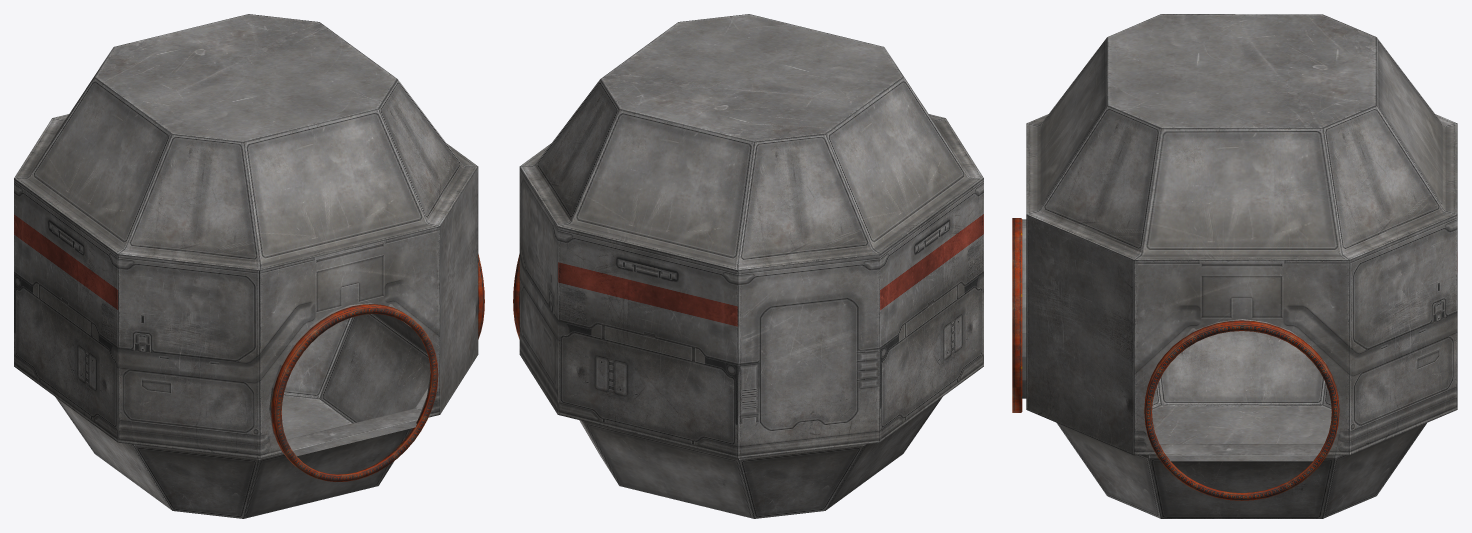
File: tau_8sided_room_2doors.dae
3 views of the same model, side by side, from view 1: azimuth 30°, elevation 25°; view 2: azimuth 150°, elevation 25°; view 3: azimuth 270°, elevation 25° (orthographic). The views are drawn at different scales.
Parts seen in each view (by area): view 1: polySurface374, pPipe70, polySurface386; view 2: polySurface374; view 3: polySurface374, pPipe69, pPipe70, polySurface385, polySurface386.
Part boxes in pixels (x1,y1,x2,y2): polySurface374: (14, 14, 478, 518); pPipe70: (271, 304, 438, 481); polySurface386: (269, 303, 430, 456); polySurface374: (519, 14, 983, 518); polySurface374: (1026, 14, 1457, 518); pPipe69: (1144, 320, 1339, 500); pPipe70: (1012, 218, 1022, 412); polySurface385: (1158, 319, 1325, 461); polySurface386: (1021, 219, 1026, 398).
Bounding box in the file's own units: 8.26 × 8 × 8.26.
